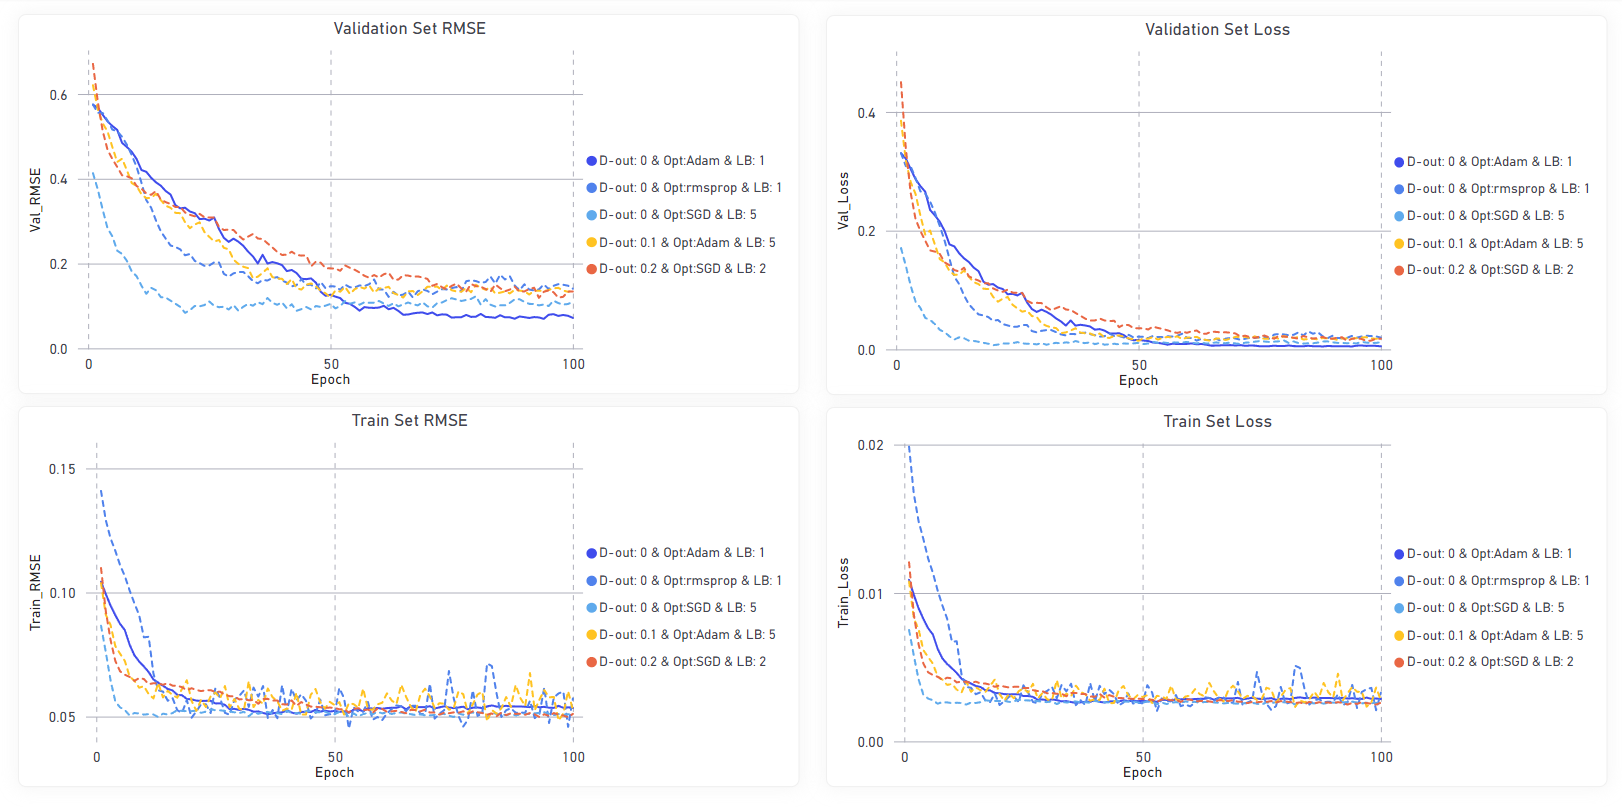

The dashboard page shown, as its layout file describes it:
{"tool":"powerbi","page":{"name":"LSTM_only_trading_volume_Predictor","canvas":[1600,800],"ordinal":7},"visuals":[{"type":"lineChart","title":"Valuation Set RMSE","fields":{"Category":["lstm_with_only_trading_volume.Epoch"],"Series":["lstm_with_only_trading_volume.Params"],"Y":["Sum(lstm_with_only_trading_volume.Val_RMSE)"]},"box":[25.1,16.4,940,373.3],"z":0},{"type":"lineChart","title":"Train Set RMSE","fields":{"Category":["lstm_with_only_trading_volume.Epoch"],"Series":["lstm_with_only_trading_volume.Params"],"Y":["Sum(lstm_with_only_trading_volume.Train_RMSE)"]},"box":[25.1,408.2,940,373.3],"z":1000},{"type":"lineChart","title":"Valuation Set Loss","fields":{"Category":["lstm_with_only_trading_volume.Epoch"],"Series":["lstm_with_only_trading_volume.Params"],"Y":["Sum(lstm_with_only_trading_volume.Val_Loss)"]},"box":[1477.8,16.4,104.8,373.3],"z":2000},{"type":"lineChart","title":"Train Set Loss","fields":{"Category":["lstm_with_only_trading_volume.Epoch"],"Series":["lstm_with_only_trading_volume.Params"],"Y":["Sum(lstm_with_only_trading_volume.Train_Loss)"]},"box":[1481,408.2,97.1,373.3],"z":3000}]}

Visuals, with their boxes in screenshot pixels (x1, y1, x2, y2), scaled from the page's 1600x800 canvas onto the 1622x807 screenshot:
"Valuation Set RMSE" lineChart: <box>25,17,978,393</box>
"Train Set RMSE" lineChart: <box>25,412,978,788</box>
"Valuation Set Loss" lineChart: <box>1498,17,1604,393</box>
"Train Set Loss" lineChart: <box>1501,412,1600,788</box>
